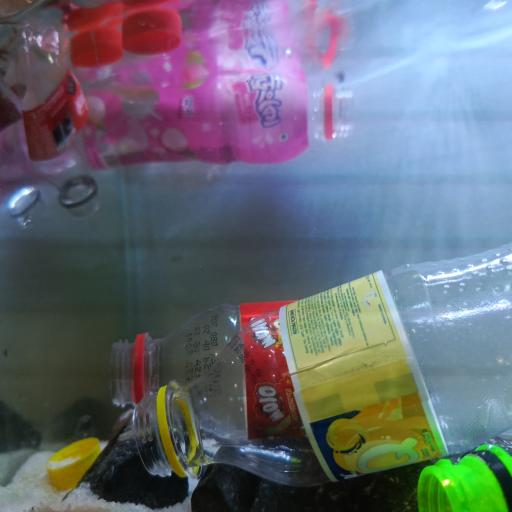bottle_cap: (46, 434, 104, 489), (122, 6, 180, 60), (64, 23, 123, 68)
plastic_bottle: (132, 241, 512, 474), (117, 298, 463, 435), (45, 64, 354, 170), (5, 22, 106, 220), (416, 437, 510, 509)
